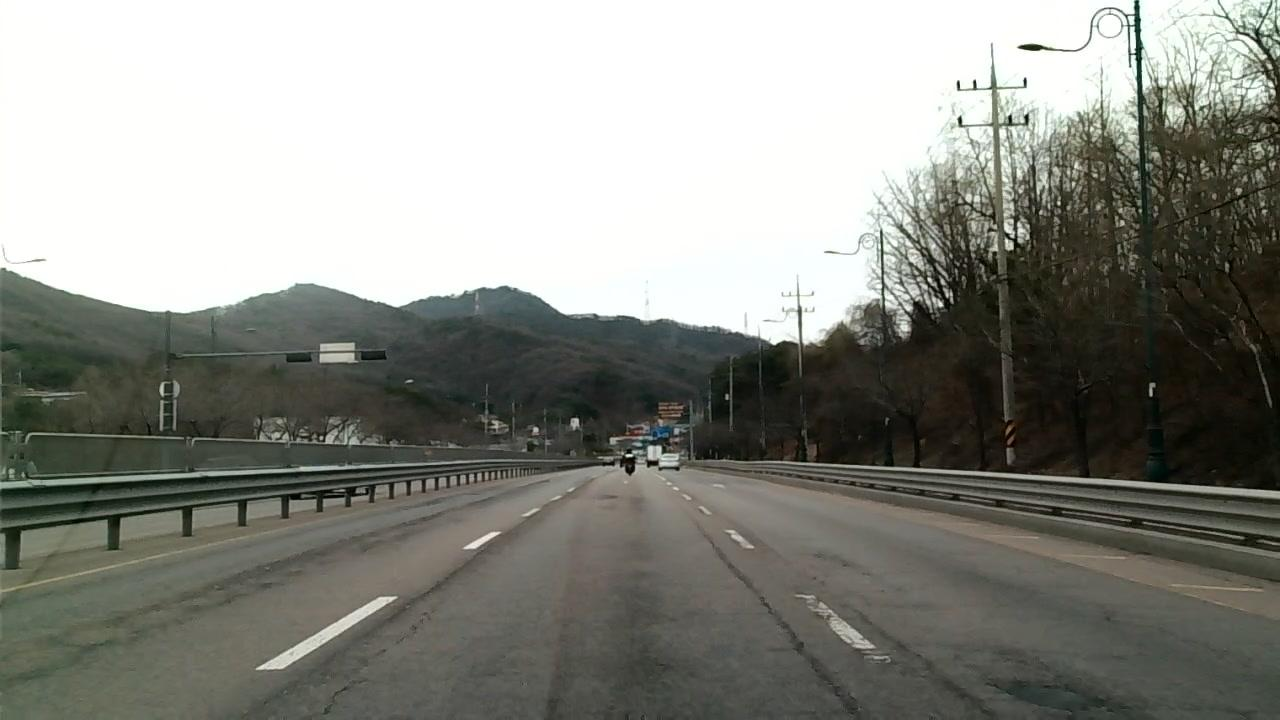erosion: (1, 520, 391, 708), (994, 650, 1139, 720)
hcrack: (853, 605, 1013, 718)
vcrack: (696, 522, 870, 720), (317, 598, 444, 720), (381, 538, 497, 628)
